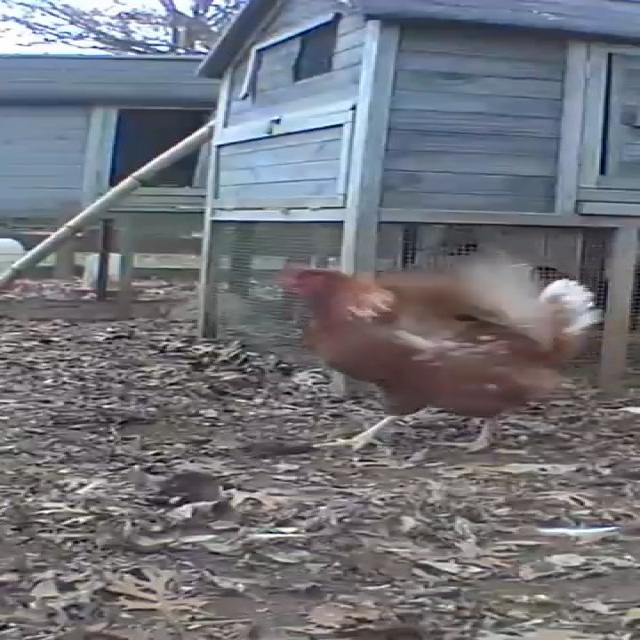wing flap: (238, 236, 636, 448)
